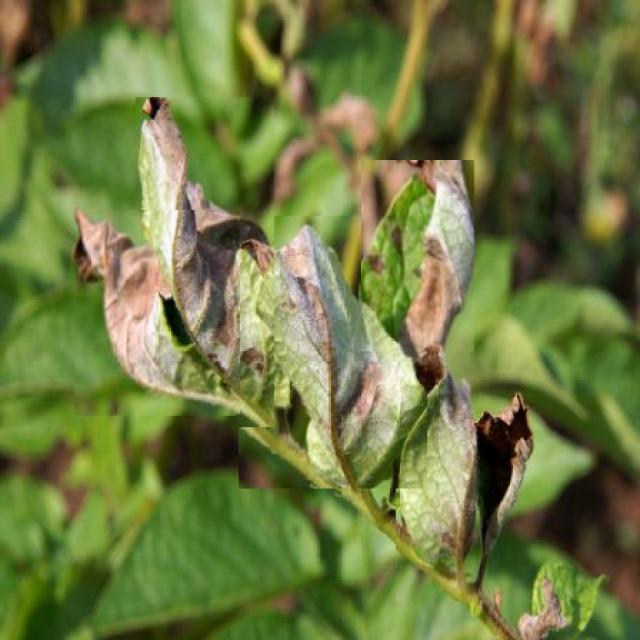Late Blight: (239, 216, 428, 488), (136, 97, 274, 427), (74, 211, 240, 416), (360, 160, 474, 351), (396, 343, 479, 601)
